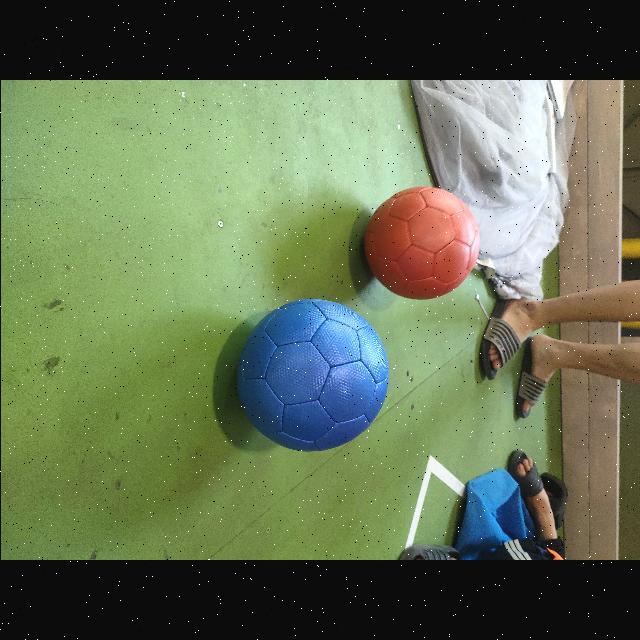B: (232, 298, 388, 452)
R: (362, 186, 481, 300)
